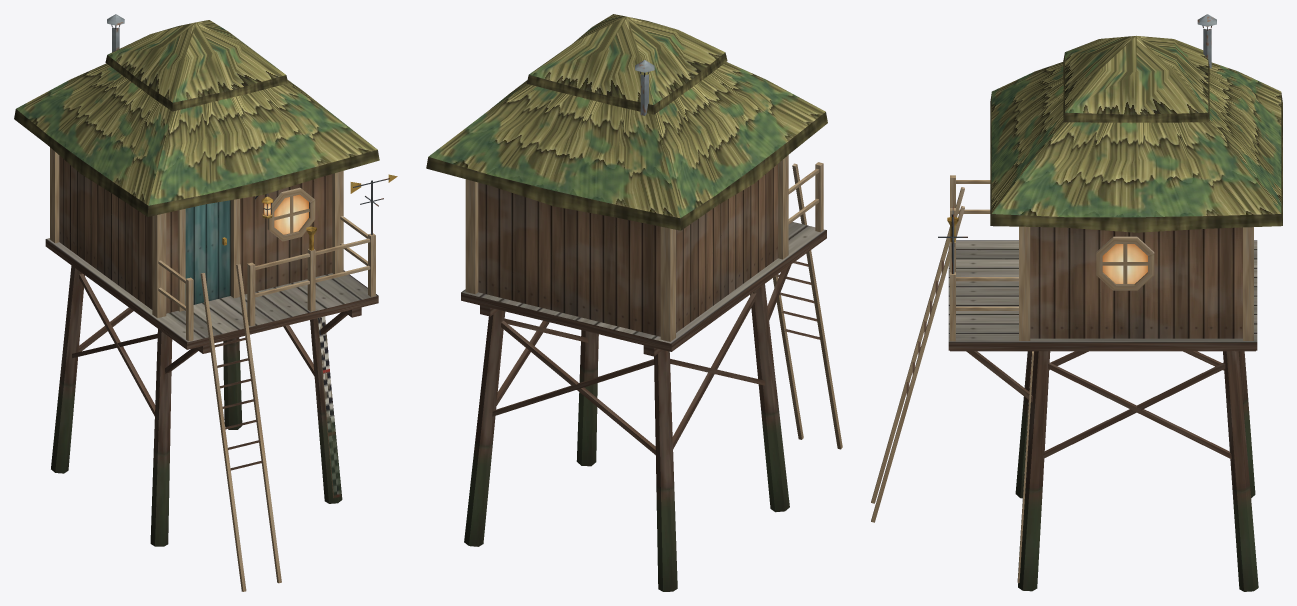
The model's file is stilt-hut.glb.
3 renders of one model, left to right at view 1: azimuth 30°, elevation 25°; view 2: azimuth 150°, elevation 25°; view 3: azimuth 270°, elevation 25°, orthographic. The views are drawn at different scales.
Visible parts, largest first — view 1: stilt-hut; view 2: stilt-hut; view 3: stilt-hut.
Boxes of the visible parts, box(x1,y1,x2,y2) form: stilt-hut: box(14, 14, 383, 591); stilt-hut: box(426, 14, 842, 591); stilt-hut: box(871, 14, 1282, 591).
Size of the model in its own units: 3.94 by 7.49 by 5.52.
Materials: 2 (2 with a texture image).
